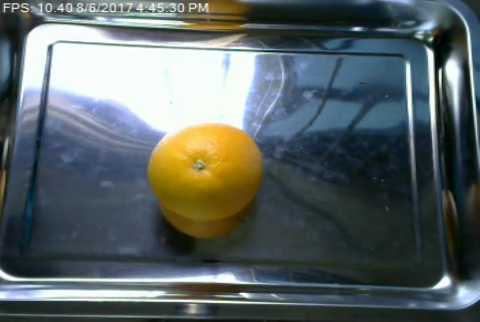Orange: (148, 122, 264, 221)
